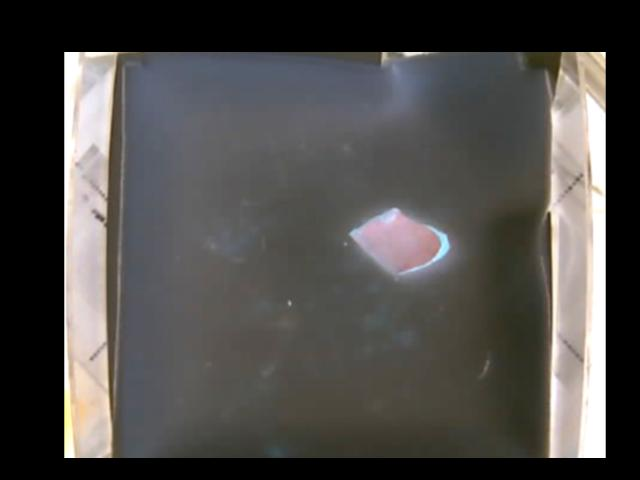China: (352, 206, 450, 272)
